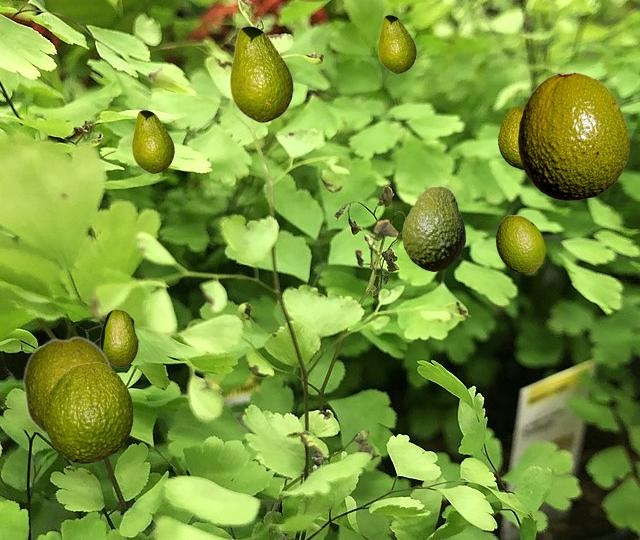avocado: (518, 72, 628, 199), (22, 335, 112, 435), (44, 362, 132, 462), (230, 26, 292, 121), (402, 186, 464, 270), (496, 215, 544, 272), (132, 110, 173, 172), (378, 15, 415, 72), (100, 309, 137, 366), (498, 106, 523, 168)
